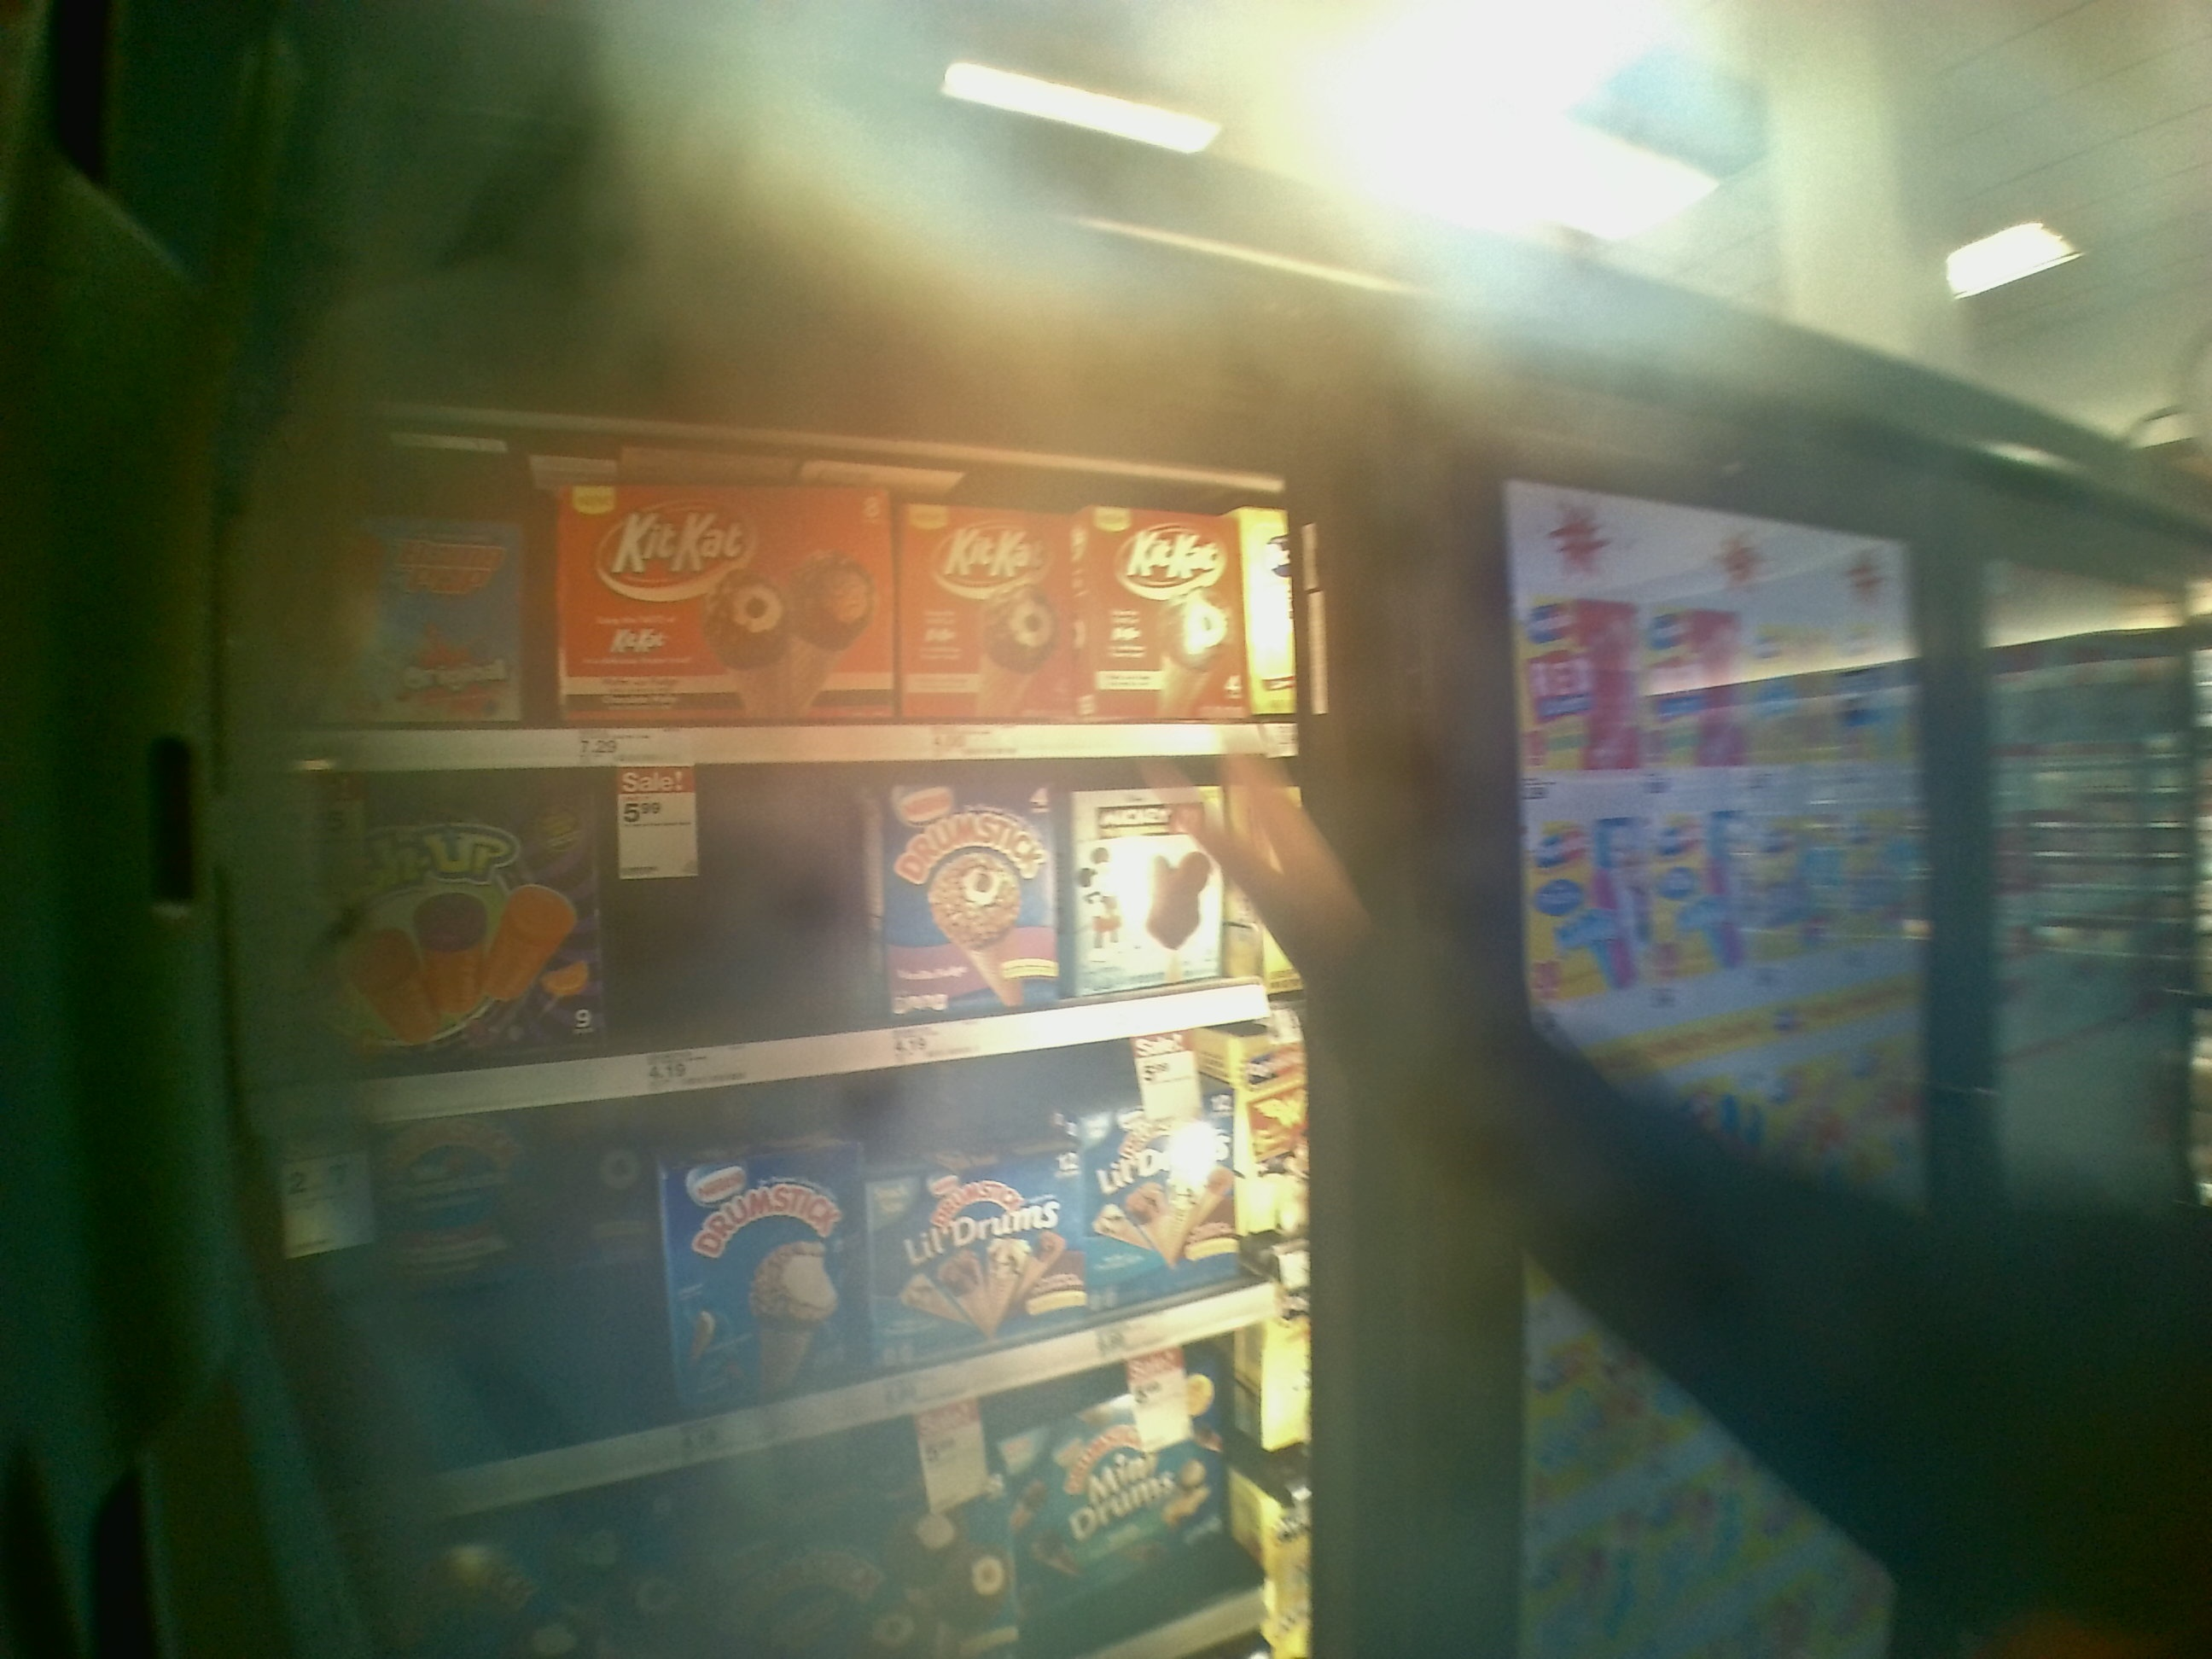shelf: (240, 408, 1299, 763)
